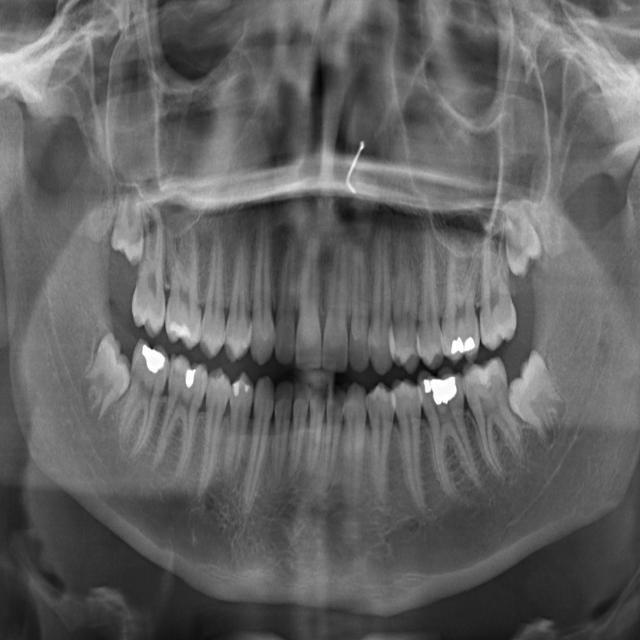AmalgamRestoration: (424, 375, 456, 407), (137, 345, 169, 375), (451, 334, 476, 356), (184, 366, 197, 392)
CompositeResinRestoration: (168, 311, 191, 341), (476, 362, 498, 393), (242, 380, 252, 402), (233, 378, 241, 402)
